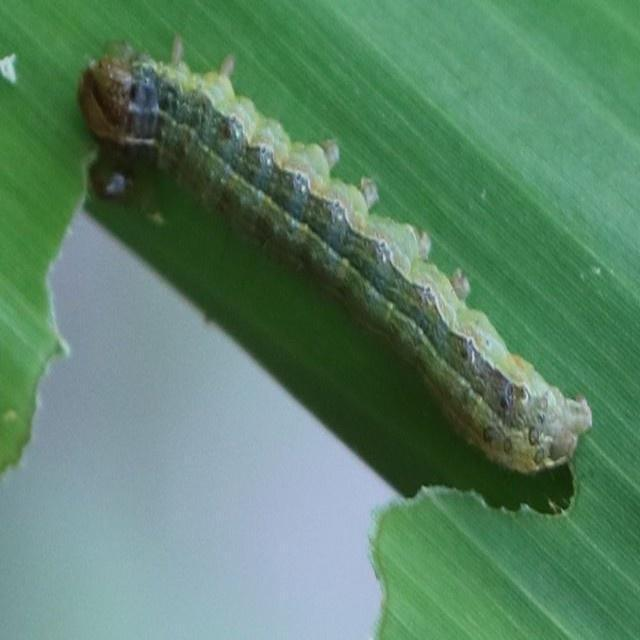gusano_cogollero: (66, 30, 594, 473)
